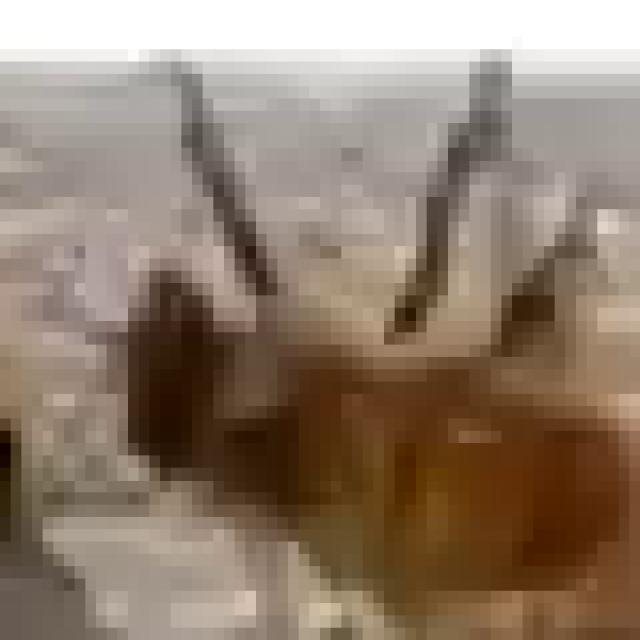honeybee: (113, 238, 619, 594)
